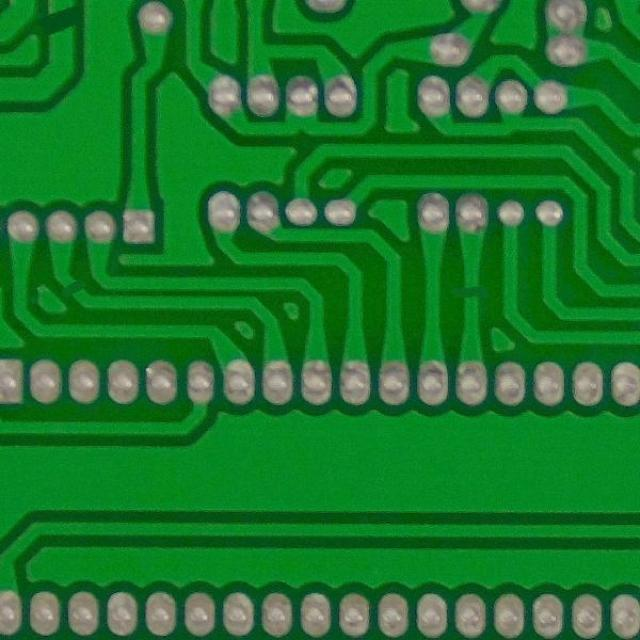Open_Circuit: (36, 0, 86, 47), (454, 275, 491, 312), (60, 272, 90, 302)
